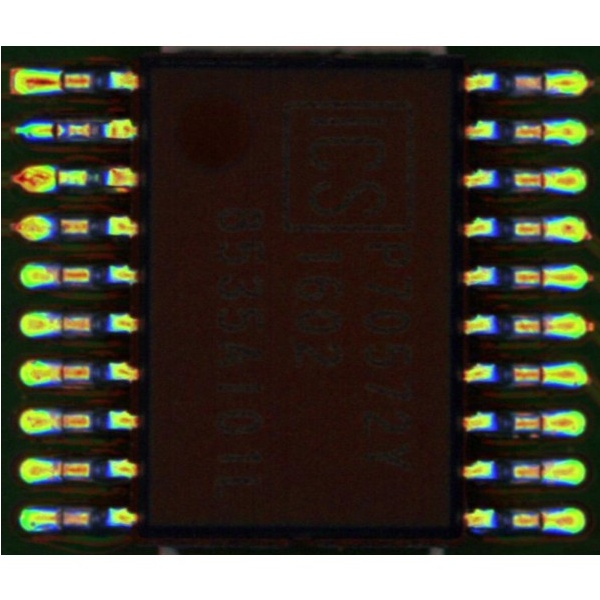Bad_podu: (524, 270, 559, 282), (34, 75, 76, 85), (38, 366, 75, 376), (38, 512, 74, 522), (526, 320, 557, 331), (31, 125, 68, 134), (526, 514, 554, 525), (527, 127, 558, 136)
